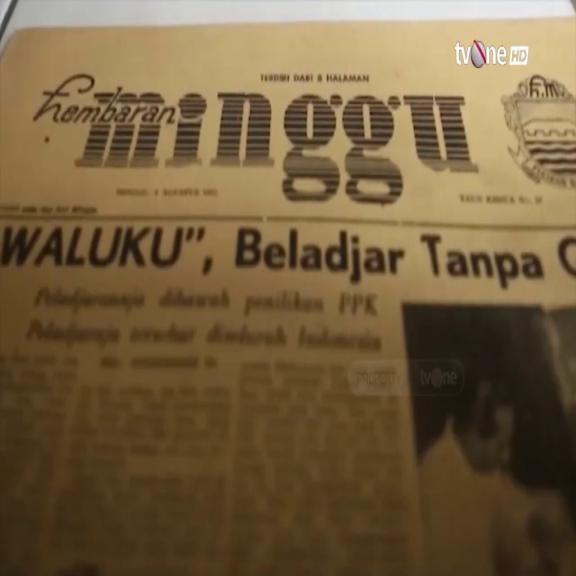Kertas: (3, 88, 576, 575)
